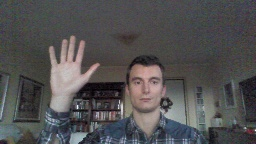Mano_aperta: (44, 32, 101, 97)
